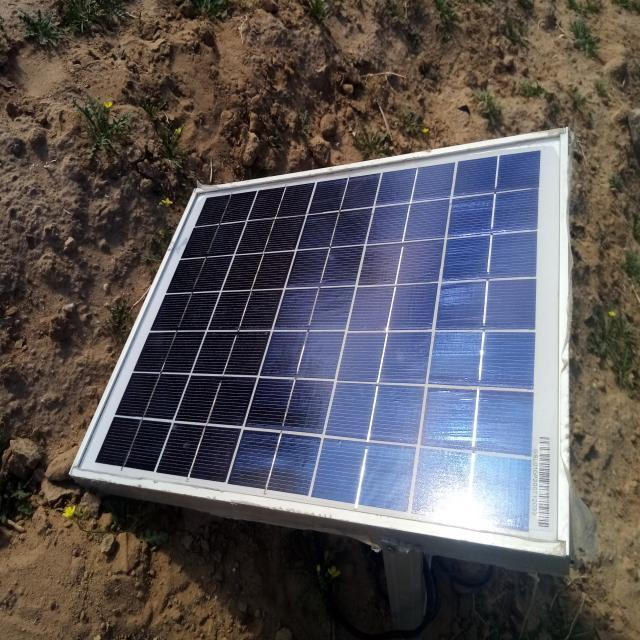no faulty: (76, 129, 568, 550)
